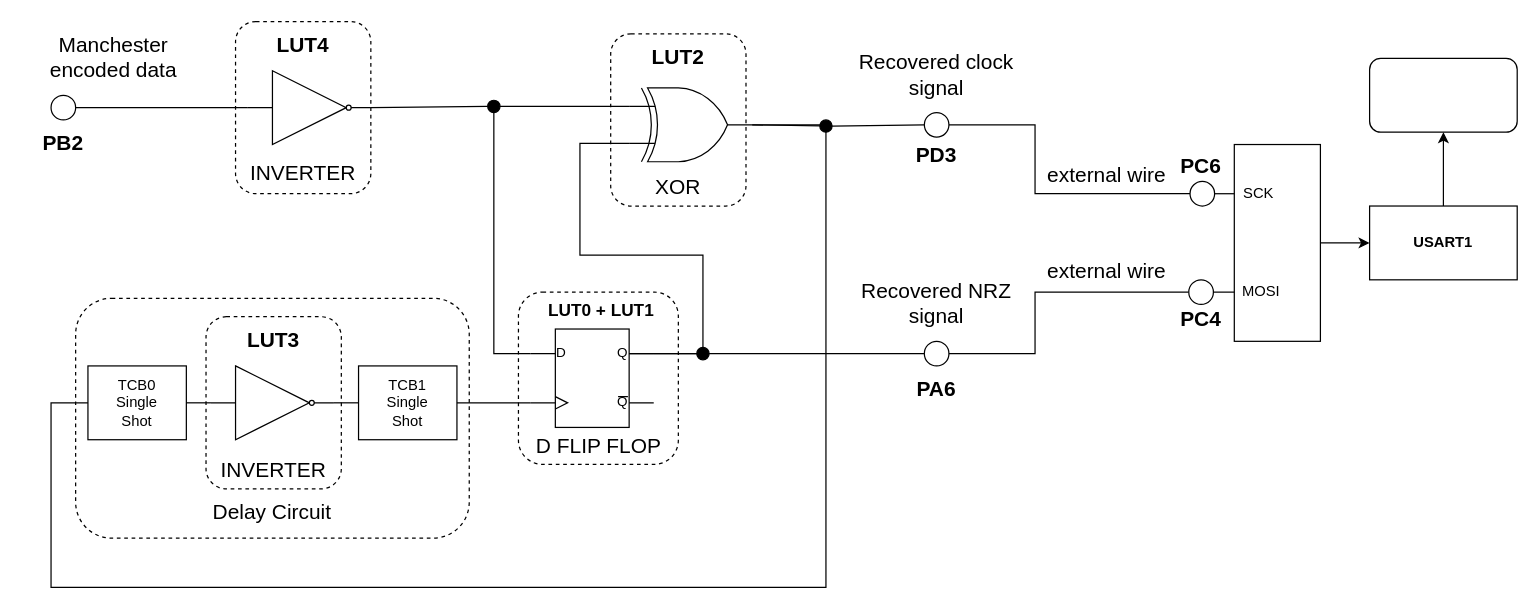
The diagram is 1539 pixels wide and 610 high, and some of its shapes have lost their labels. The box of each missing label's shape, as (x1, y1, x2, y2) in pixels:
SPI1: (1233, 143, 1320, 341)
User Terminal: (1368, 57, 1517, 132)
